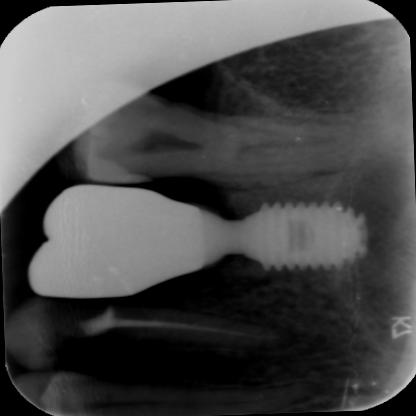Bicon: (218, 200, 368, 278)
